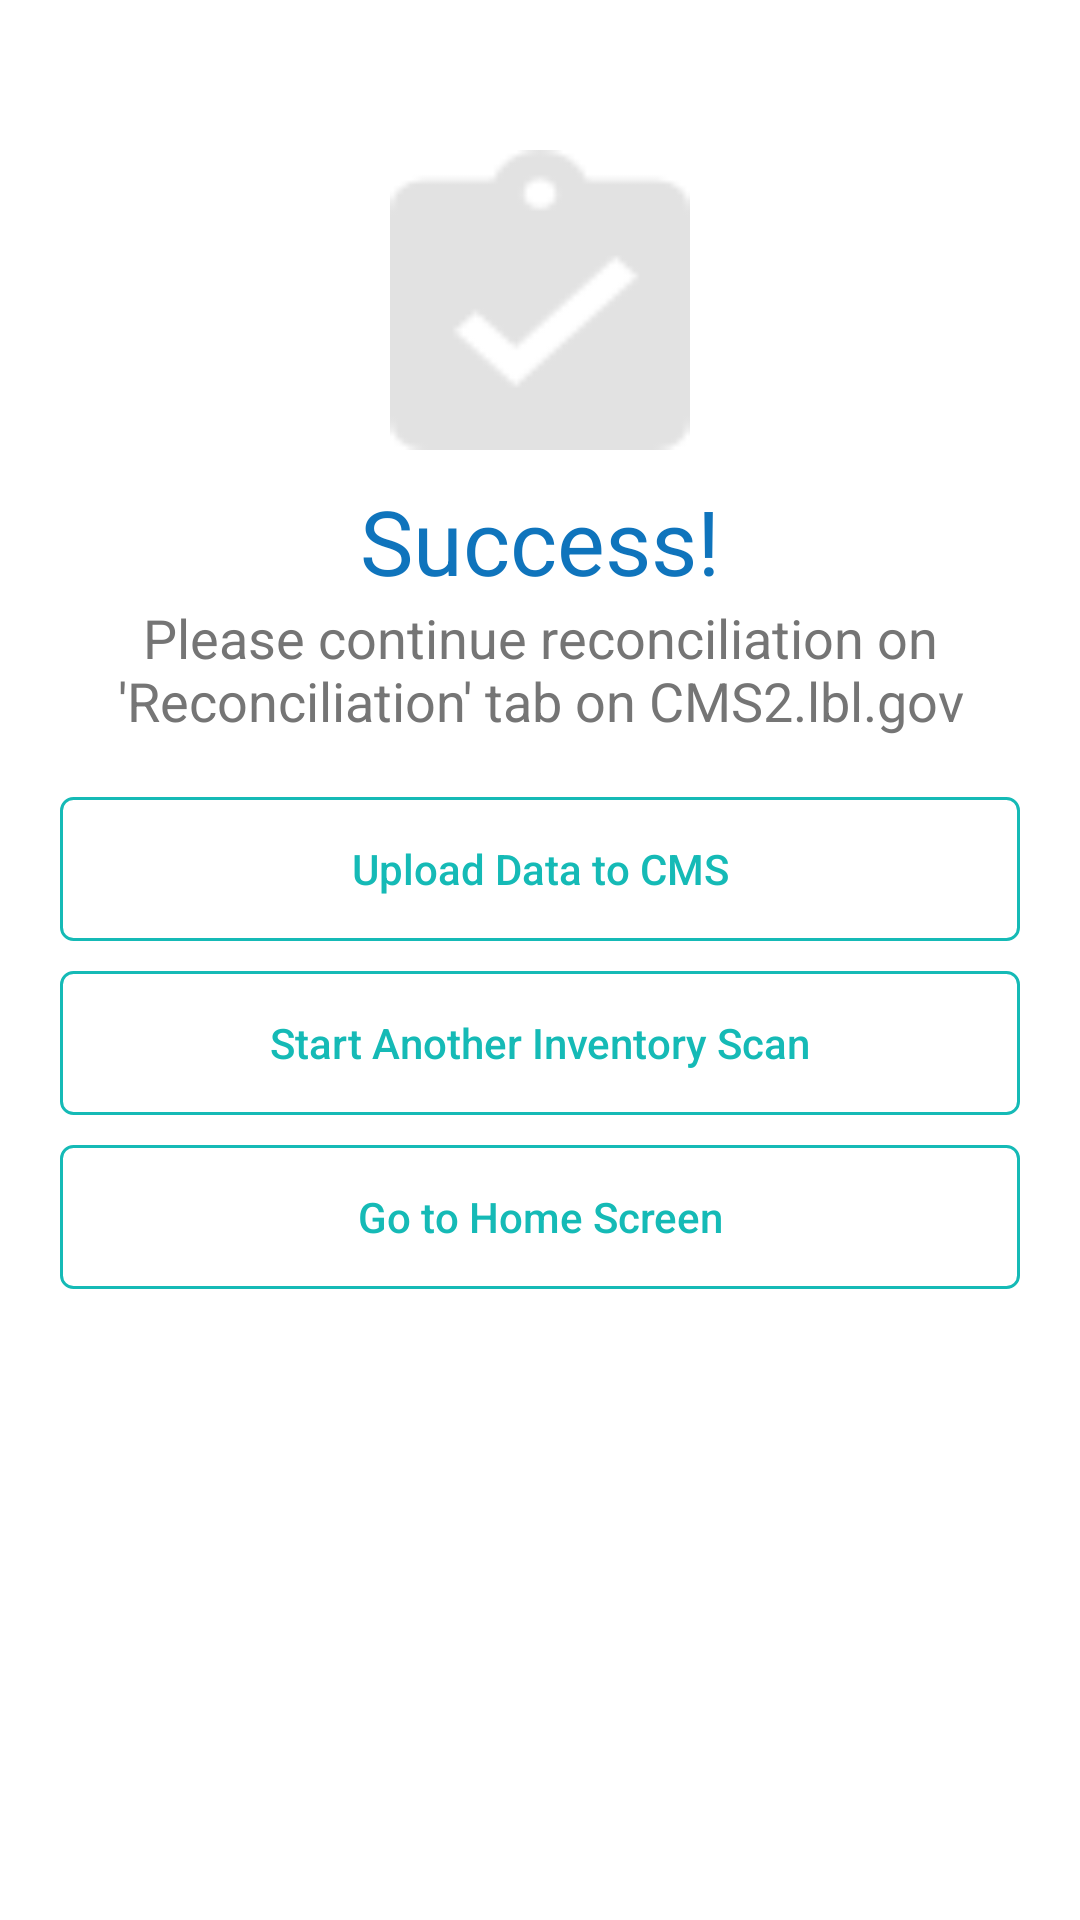

Icon bounding boxes for this 1080px×1920px phone screenshot, format [x1=x1, y1=y1, x2=x2, y2=y2]:
inspection: [x1=390, y1=150, x2=690, y2=450]
